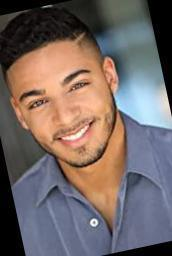Sober: (16, 58, 108, 152)
